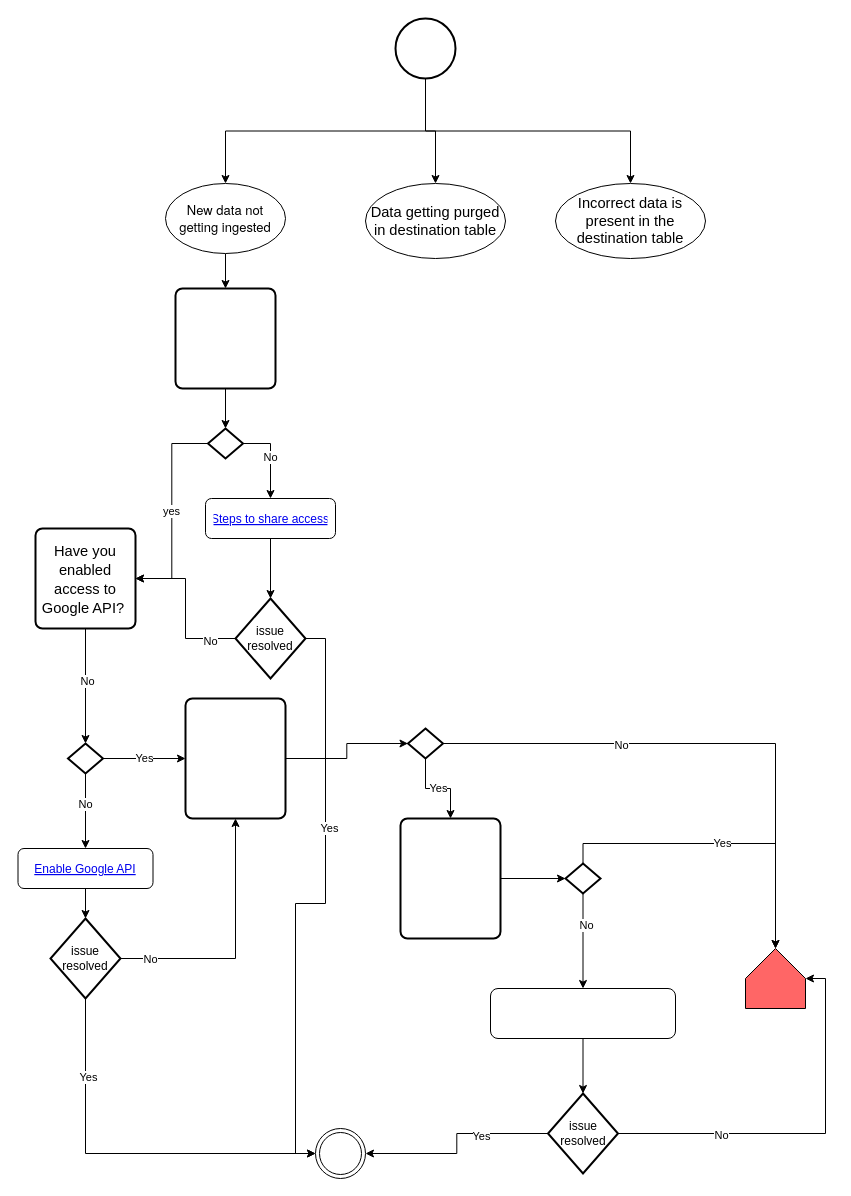
The diagram is 851 pixels wide and 1196 high, and some of its shapes have lost their labels. The centre of each missing label's shape, as x and y in pixels:
"Ask customer to enable Refresh daily config in source" goes at pixel 583 1013.
"Check if the customer has enabled Refresh Daily in source" goes at pixel 450 878.
"Do the account configured in pipeline has access to the sheet?" goes at pixel 225 338.
"Does the source file contain data reference from another Google sheet?" goes at pixel 235 758.
